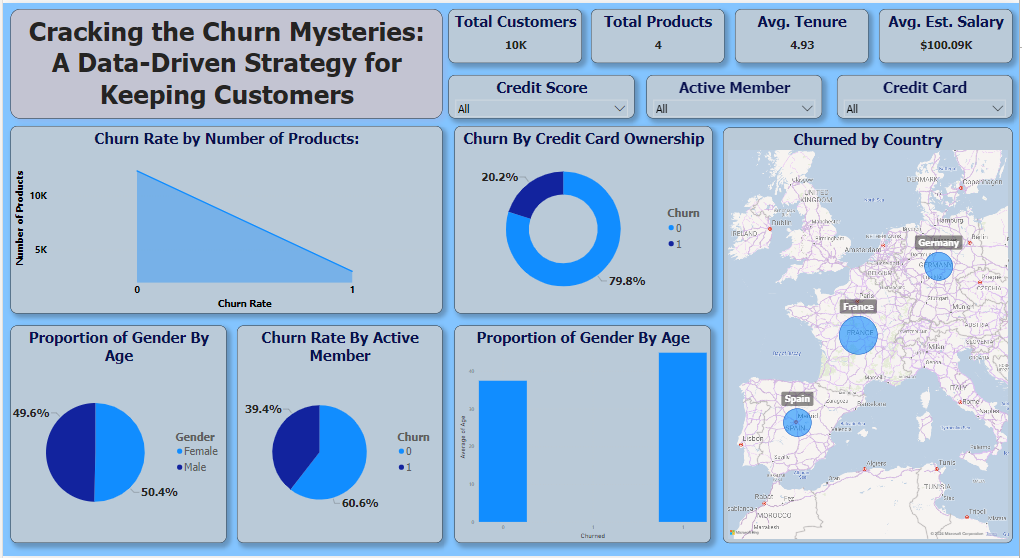

What the dashboard file says about the page in this screenshot:
{"tool":"powerbi","page":{"name":"BANK CUSTOMER CHURN","canvas":[2280,1240],"ordinal":0},"visuals":[{"type":"textbox","box":[16.8,13.5,969.5,245.7],"z":0},{"type":"pieChart","title":"Proportion of Gender By Age","fields":{"Y":["Avg(churn.Age)"],"Category":["churn.Gender"]},"box":[16.8,723.7,484.7,488.1],"z":1000},{"type":"card","title":"Total Customers","fields":{"Values":["churn.Total Customers"]},"box":[999.8,13.5,299.6,121.2],"z":2000},{"type":"pieChart","title":"Churn Rate By Active Member","fields":{"Y":["Avg(churn.IsActiveMember)"],"Category":["churn.Churned"]},"box":[525.1,723.7,461.2,488.1],"z":3000},{"type":"card","title":"Total Products","fields":{"Values":["churn.Total Products"]},"box":[1319.5,13.5,299.6,121.2],"z":4000},{"type":"card","title":"Avg. Tenure","fields":{"Values":["churn.Average Tenure of Churned Customers"]},"box":[1642.7,13.5,299.6,121.2],"z":5000},{"type":"columnChart","title":"Proportion of Gender By Age","fields":{"Category":["churn.Churned"],"Y":["Avg(churn.Age)"]},"box":[1013.2,723.7,575.6,488.1],"z":6000},{"type":"areaChart","title":"Churn Rate by Number of Products:","fields":{"Category":["churn.Churned"],"Y":["Sum(churn.NumOfProducts)"]},"box":[16.8,276,969.5,420.8],"z":7000},{"type":"card","title":"Avg. Est. Salary","fields":{"Values":["Avg(churn.EstimatedSalary)"]},"box":[1965.8,13.5,299.6,121.2],"z":8000},{"type":"donutChart","title":"Churn By Credit Card Ownership","fields":{"Category":["churn.Churned"],"Y":["Sum(churn.HasCrCard)"]},"box":[1013.2,276,579,420.8],"z":9000},{"type":"map","title":"Churned by Country","fields":{"Category":["churn.Geography"],"Size":["CountNonNull(churn.Churned)"]},"box":[1615.8,279.4,649.7,932.4],"z":10000},{"type":"slicer","title":"Credit Score","fields":{"Values":["churn.CreditScore"]},"box":[999.8,161.6,417.4,97.6],"z":11000},{"type":"slicer","title":"Active Member","fields":{"Values":["churn.IsActiveMember"]},"box":[1444.1,161.6,393.8,97.6],"z":12000},{"type":"slicer","title":"Credit Card","fields":{"Values":["churn.HasCrCard"]},"box":[1871.6,161.6,393.8,97.6],"z":13000}]}

Visuals, with their boxes in screenshot pixels (x1, y1, x2, y2), scaled from the page's 2280x1240 canvas onto the 1022x558 screenshot:
textbox: bbox(8, 6, 442, 117)
"Proportion of Gender By Age" pieChart: bbox(8, 326, 225, 545)
"Total Customers" card: bbox(448, 6, 582, 61)
"Churn Rate By Active Member" pieChart: bbox(235, 326, 442, 545)
"Total Products" card: bbox(591, 6, 726, 61)
"Avg. Tenure" card: bbox(736, 6, 871, 61)
"Proportion of Gender By Age" columnChart: bbox(454, 326, 712, 545)
"Churn Rate by Number of Products:" areaChart: bbox(8, 124, 442, 314)
"Avg. Est. Salary" card: bbox(881, 6, 1015, 61)
"Churn By Credit Card Ownership" donutChart: bbox(454, 124, 714, 314)
"Churned by Country" map: bbox(724, 126, 1016, 545)
"Credit Score" slicer: bbox(448, 73, 635, 117)
"Active Member" slicer: bbox(647, 73, 824, 117)
"Credit Card" slicer: bbox(839, 73, 1015, 117)
